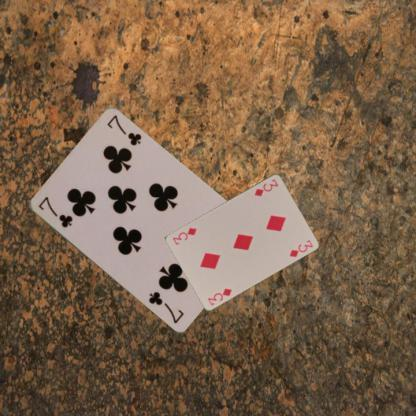3d: (252, 176, 280, 198), (205, 286, 233, 306)
7c: (35, 194, 74, 230)
